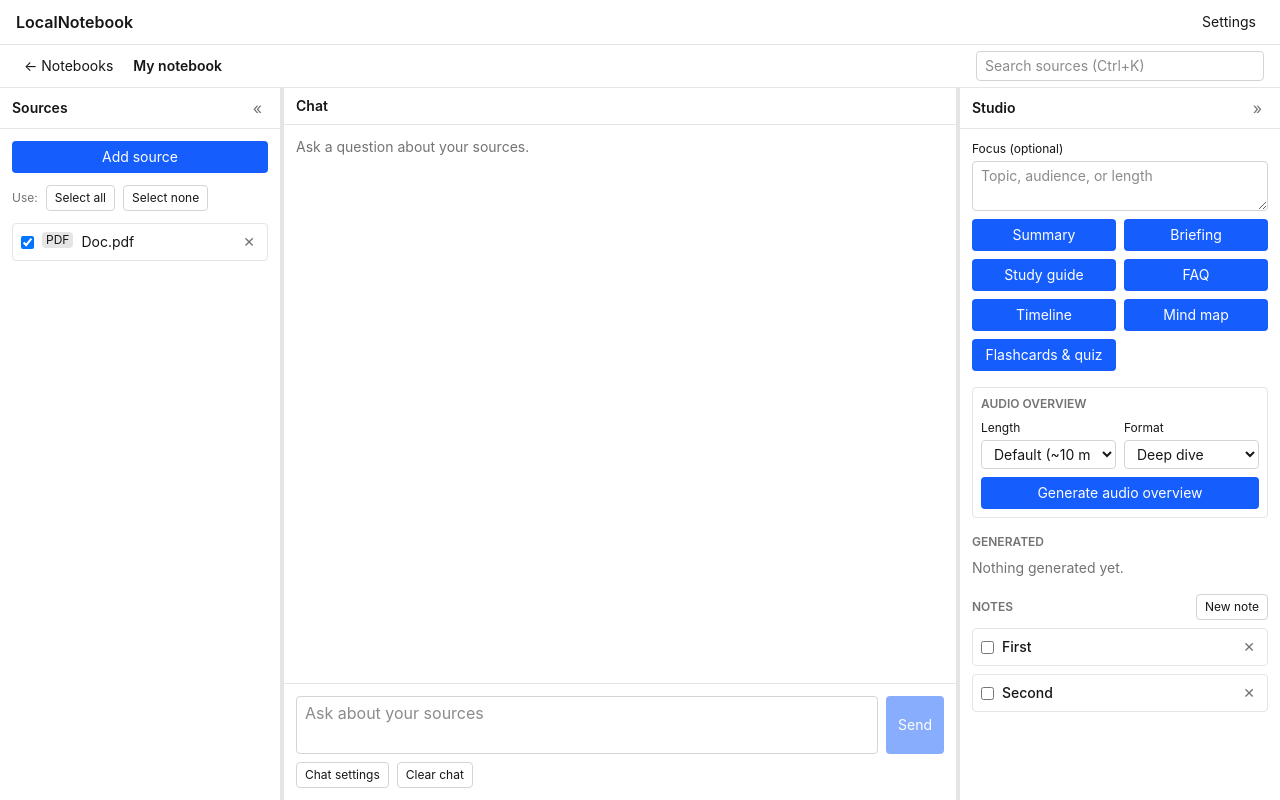
Test: combines notes and opens the result
The width and height of the screenshot is (1280, 800).
Step 1. Click the checkbox named "Select note First" → [988, 648], box [981,641,994,654]
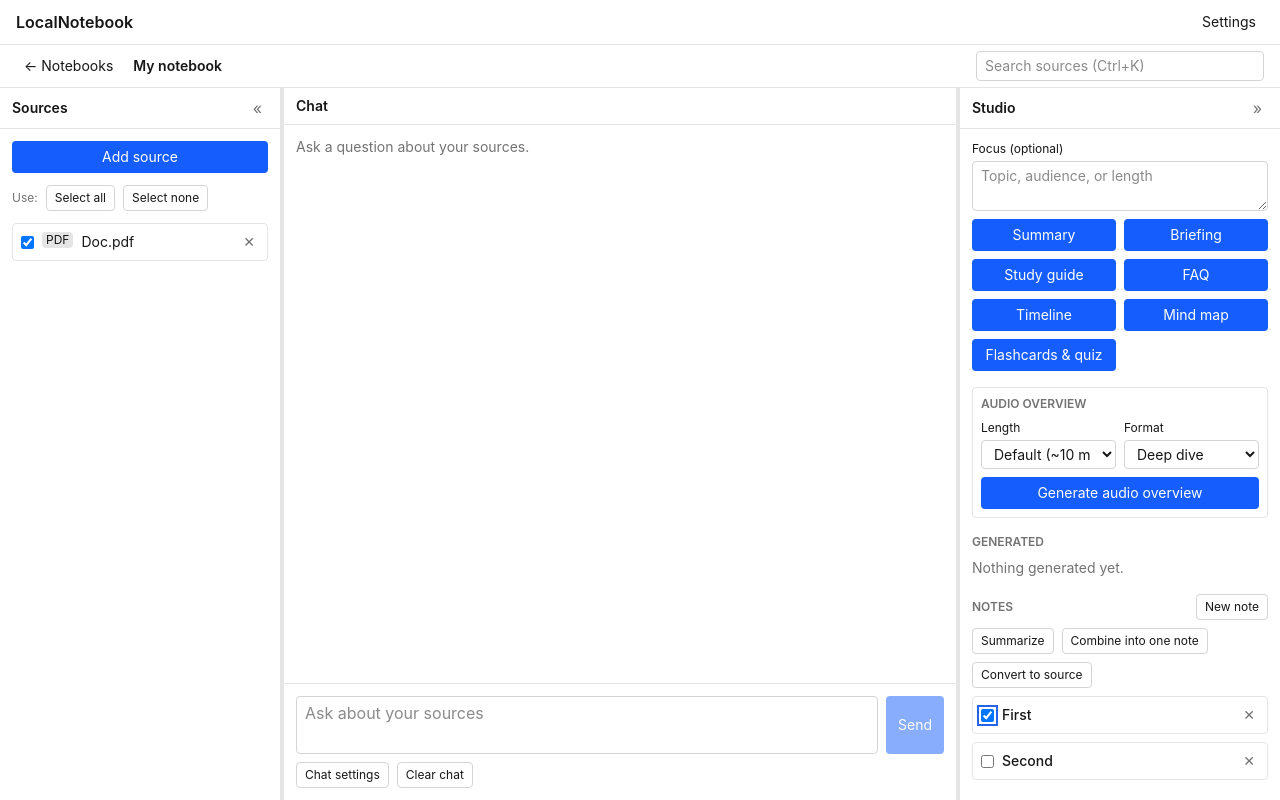
Step 2. Click the checkbox named "Select note Second" → [988, 762], box [981,755,994,768]
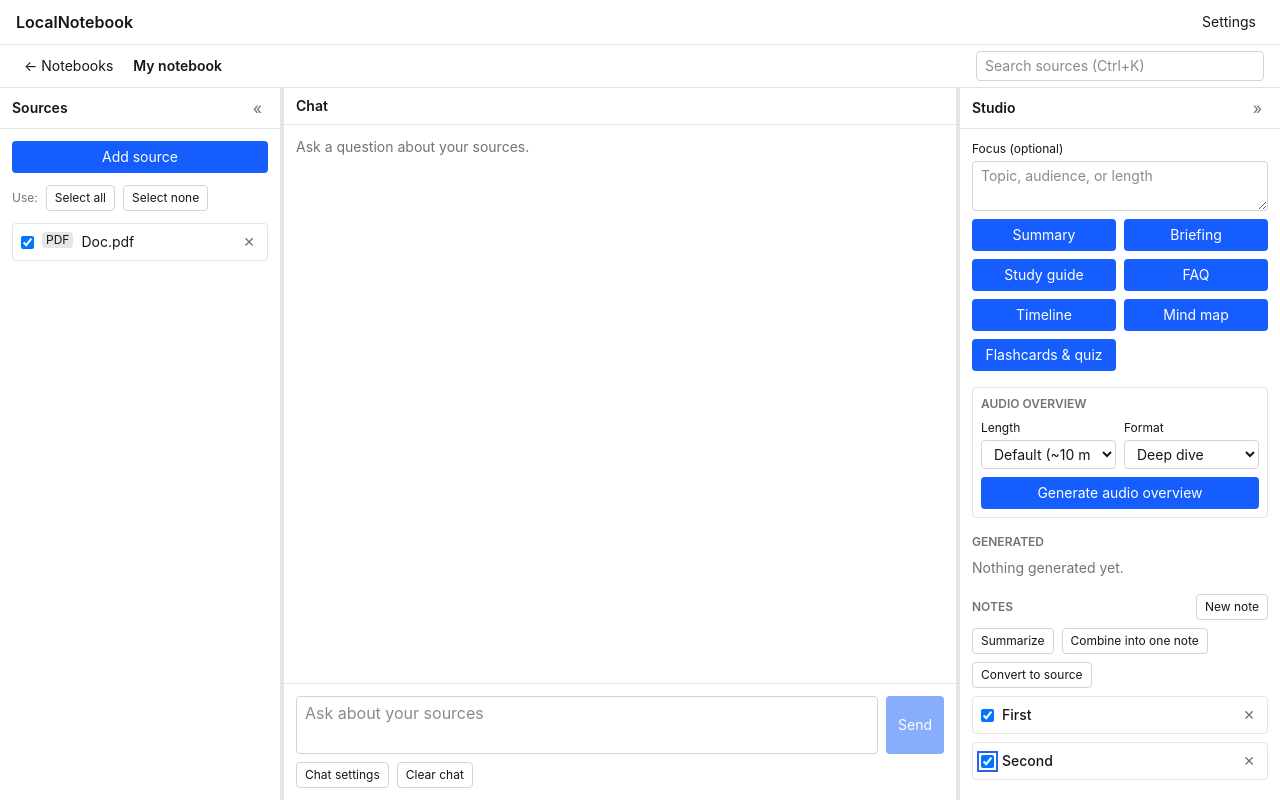
Step 3. Click the button "Combine into one note" → [1135, 641], box [1062,628,1208,654]
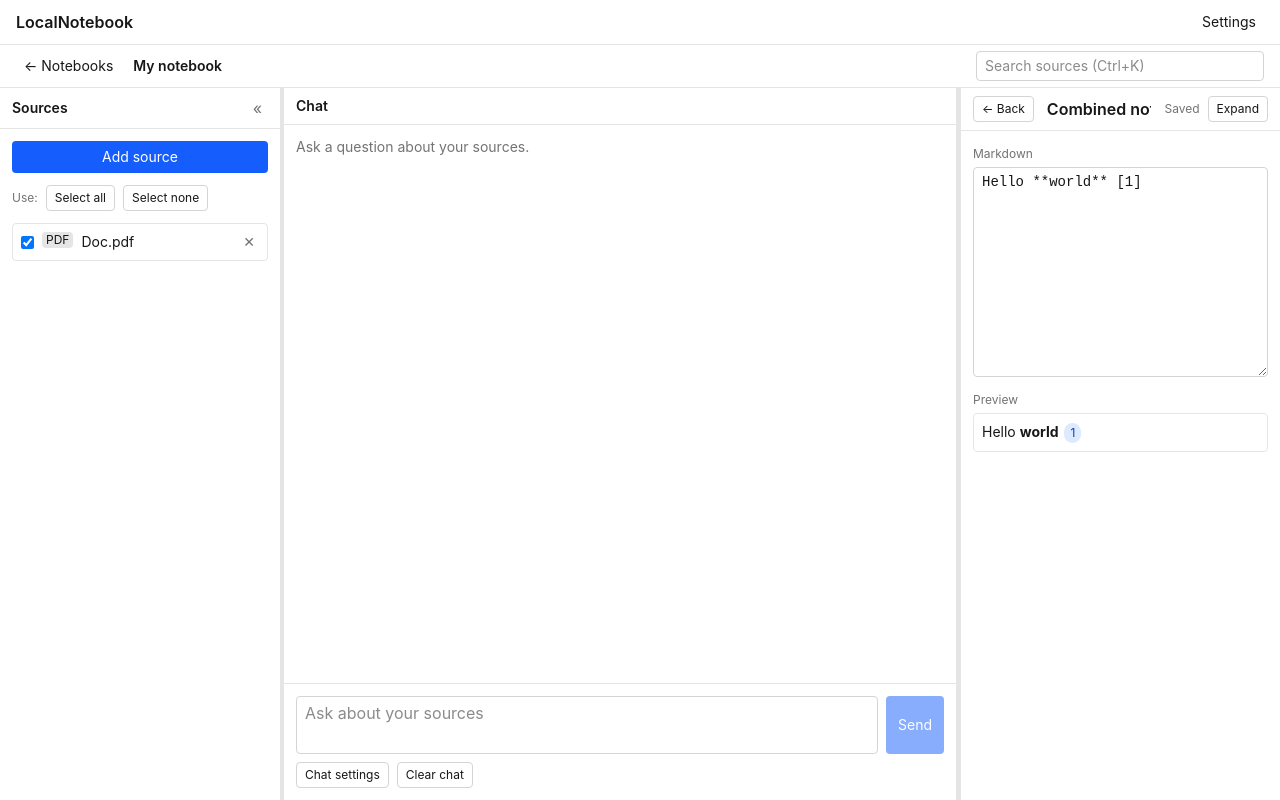
Now the field showing "Combined notes" is shown, box [1042,96,1156,122]
